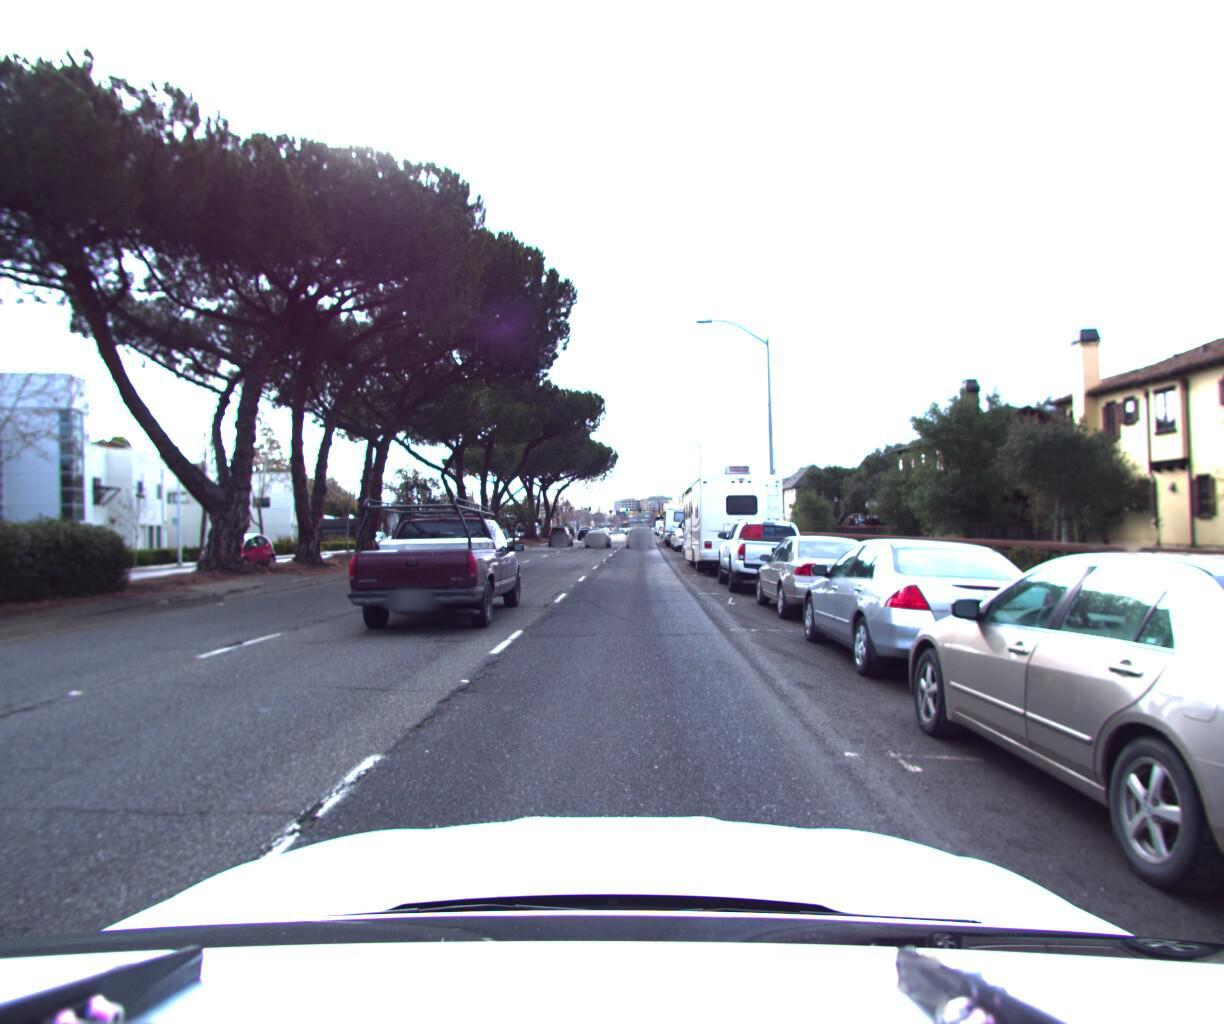car: (880, 537, 1224, 1024), (789, 527, 1094, 700), (353, 490, 526, 637), (749, 528, 906, 628), (716, 515, 820, 599), (187, 533, 284, 573), (675, 527, 708, 554), (584, 526, 612, 549), (547, 525, 576, 547), (625, 528, 652, 550)
other_vehicle: (667, 503, 706, 549)
truck: (677, 469, 788, 581)
